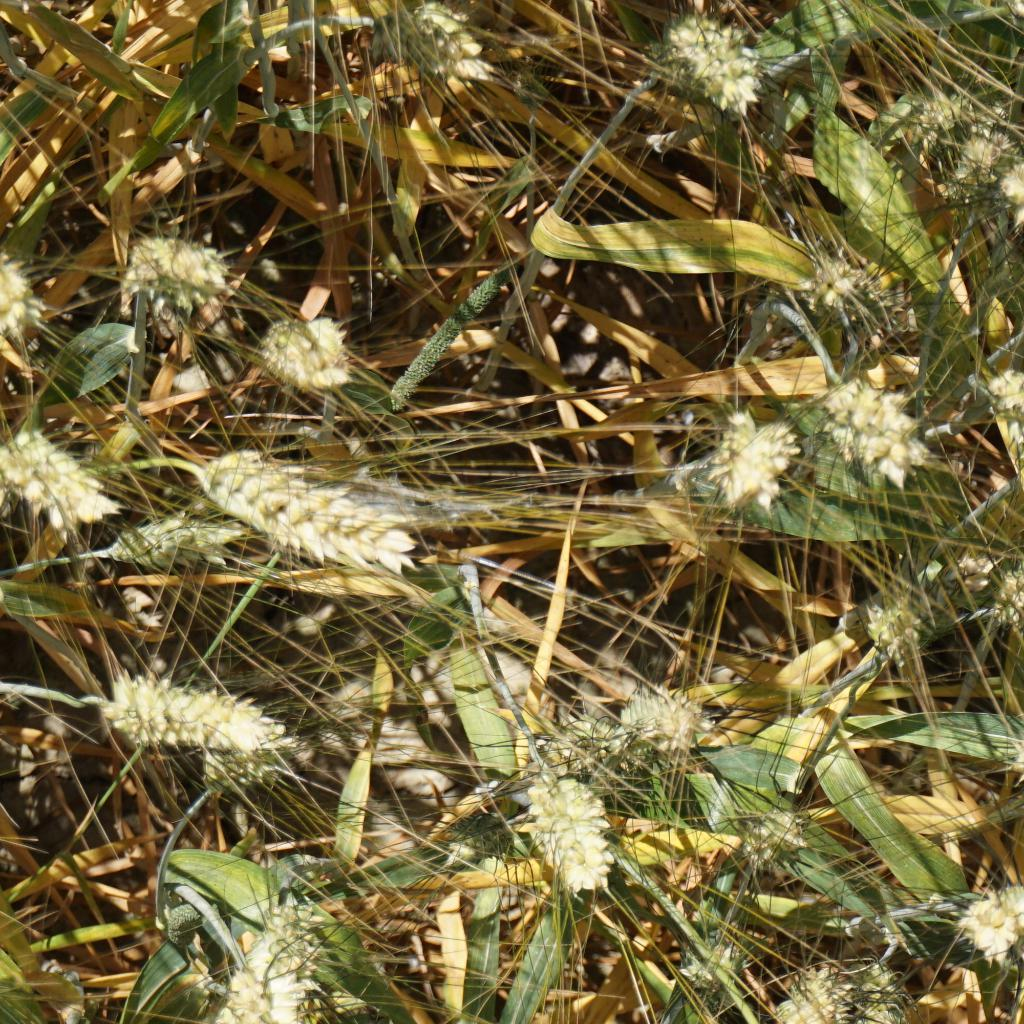0-0: (165, 438, 424, 545), (792, 354, 947, 497), (90, 666, 292, 766), (201, 892, 339, 1024), (0, 414, 117, 555), (637, 12, 769, 130), (683, 399, 808, 521), (519, 749, 623, 892), (883, 90, 1007, 205), (104, 216, 227, 317), (195, 714, 330, 805), (385, 0, 510, 90), (251, 309, 375, 394), (608, 674, 719, 755), (931, 121, 1019, 220), (723, 804, 815, 888), (664, 913, 753, 996), (123, 510, 248, 569), (949, 875, 1024, 973), (563, 696, 642, 787), (798, 259, 901, 327), (425, 808, 522, 878), (969, 352, 1024, 465), (768, 954, 854, 1024), (832, 963, 918, 1024), (0, 243, 49, 348), (862, 589, 926, 655), (495, 55, 552, 120), (984, 711, 1024, 798), (998, 128, 1024, 224), (998, 555, 1024, 627)
